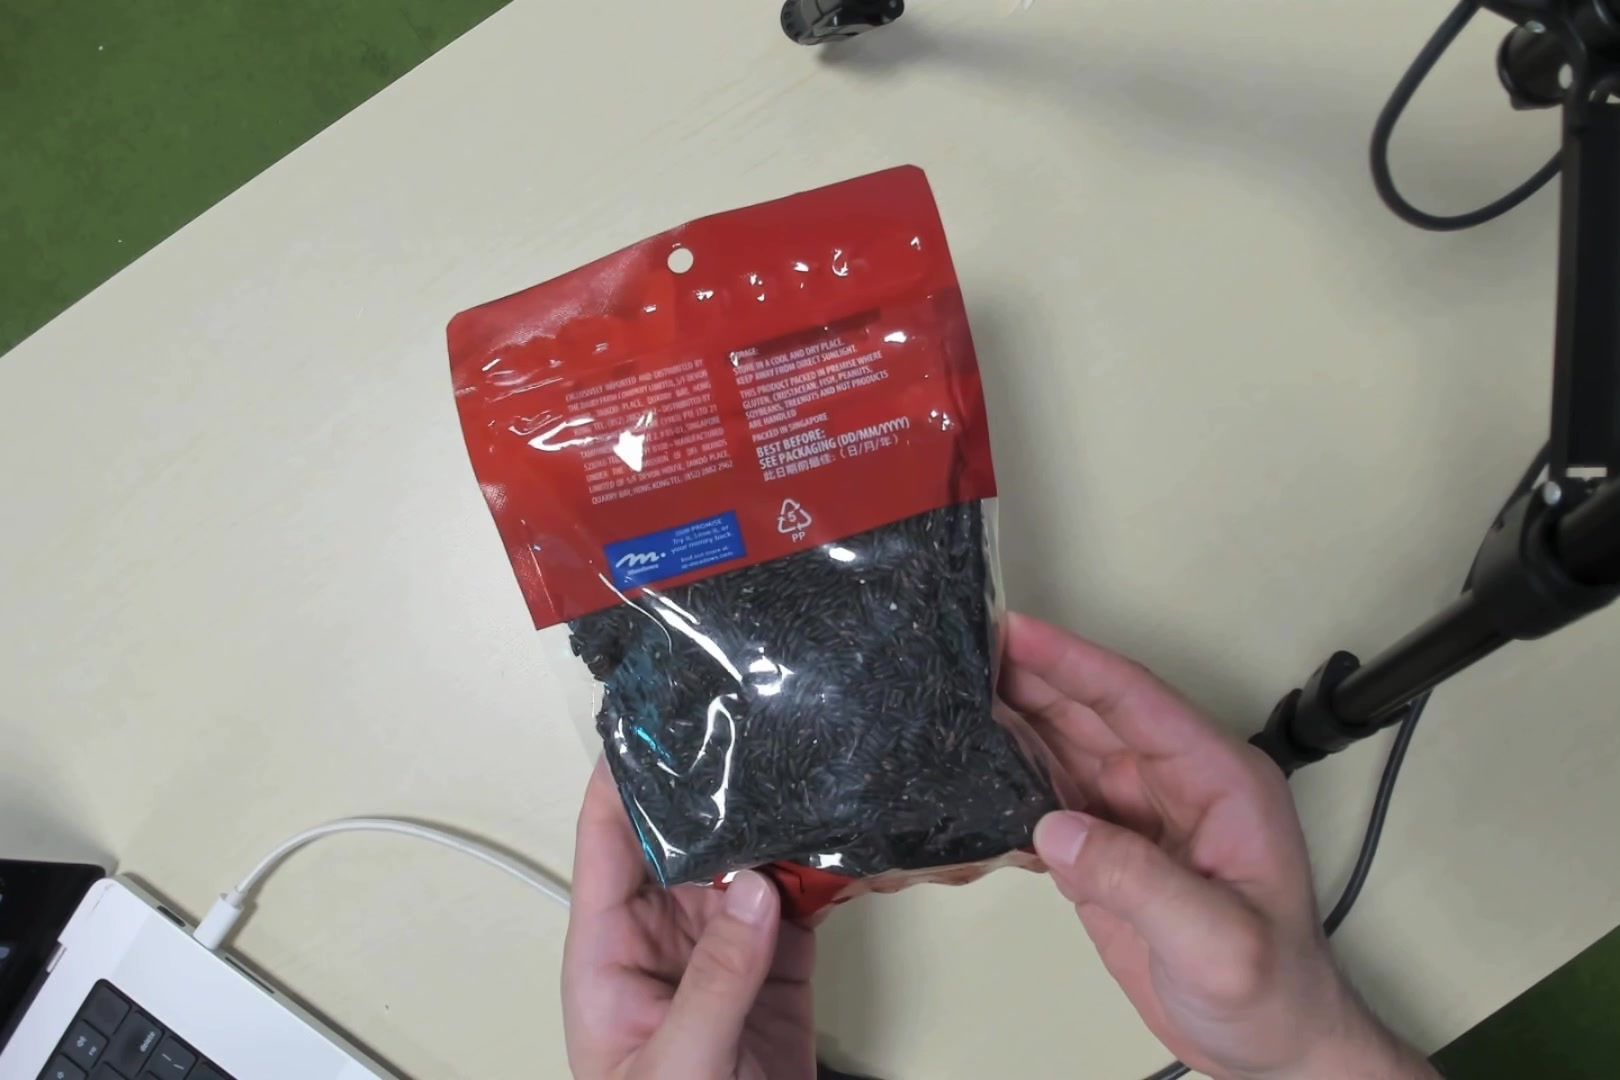OtherDriedFood_100-199g_NonHalal_NonHealthy: (529, 254, 1066, 887)
